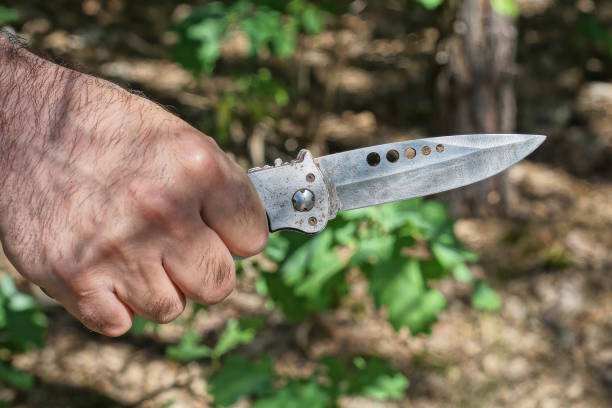knife: (245, 133, 549, 236)
